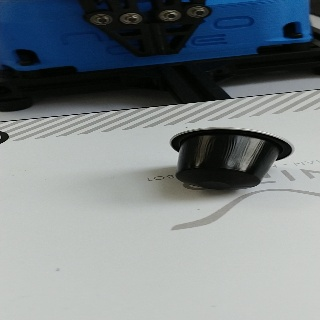capsule_10: (168, 125, 295, 192)
